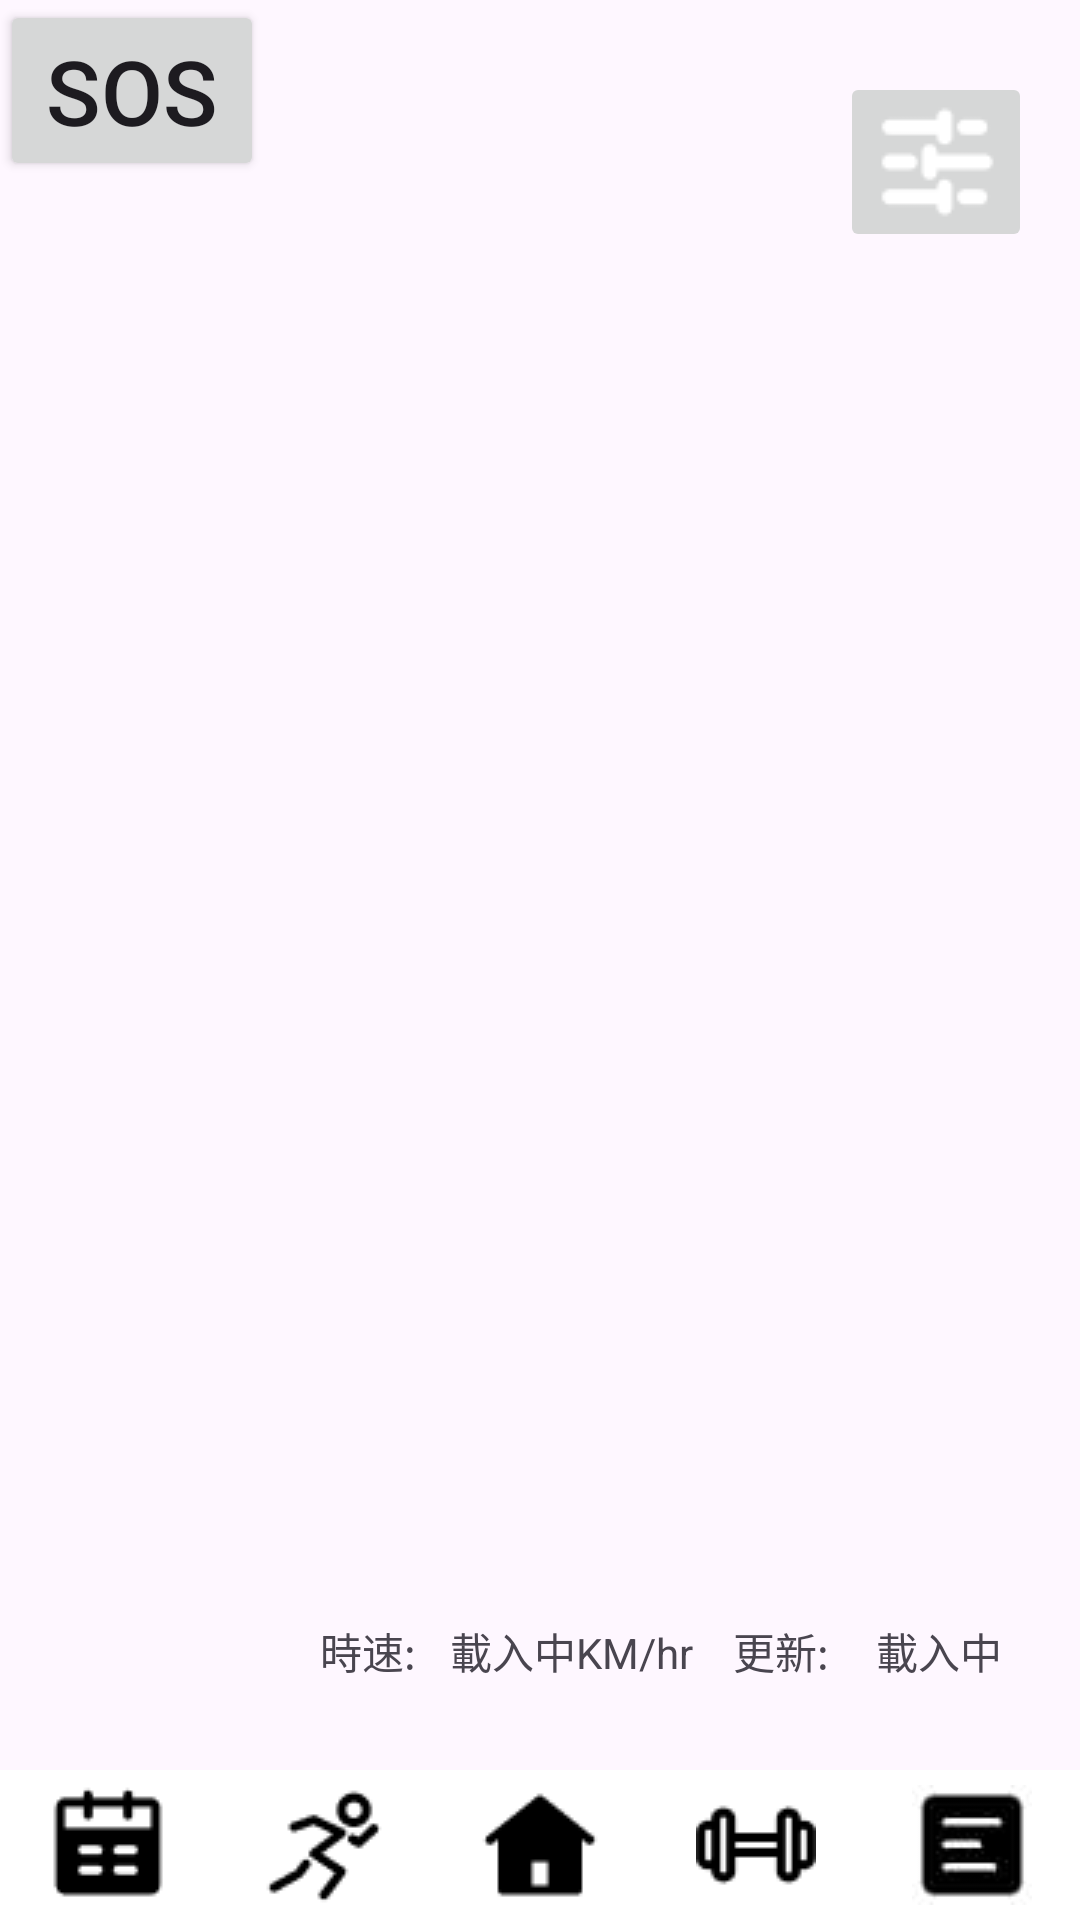

Screen size 1080*1920. Icon name, then its center in pixels as point (x, y):
article: point (972, 1845)
home: point (540, 1845)
reservation: point (108, 1843)
run: point (324, 1845)
